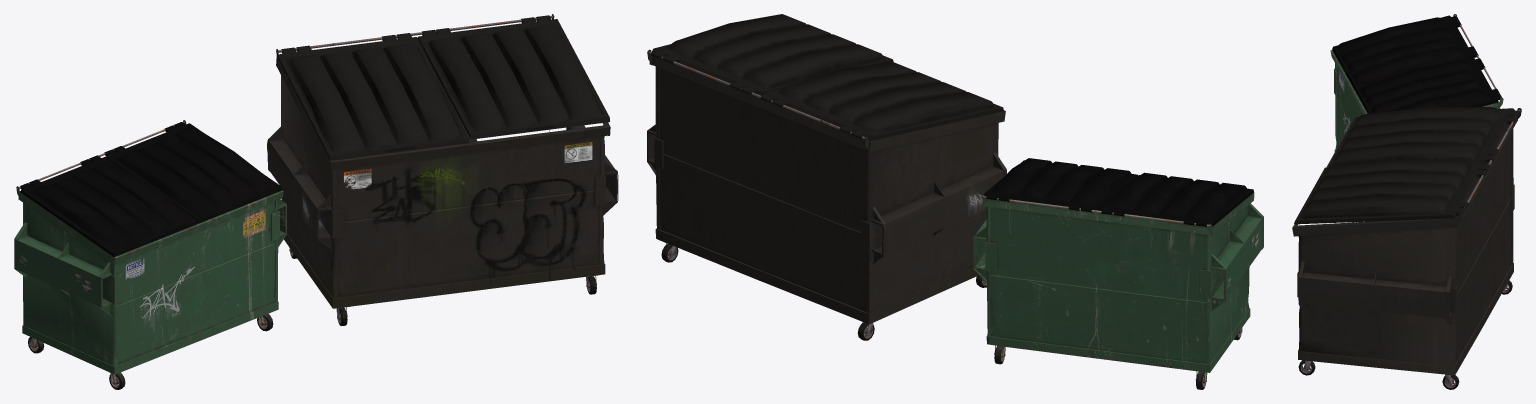
The model's file is dumpster.glb.
3 views of the same model, side by side, from view 1: azimuth 30°, elevation 25°; view 2: azimuth 150°, elevation 25°; view 3: azimuth 270°, elevation 25° (orthographic). The views are drawn at different scales.
Visible parts, largest first — view 1: dumpster; view 2: dumpster; view 3: dumpster.
Boxes of the visible parts, <box> form: dumpster: <box>14,14,618,389</box>; dumpster: <box>647,14,1263,389</box>; dumpster: <box>1292,14,1521,389</box>.
Size of the model in its own units: 3.8 by 1.35 by 1.53.
2 materials, 2 textured.
